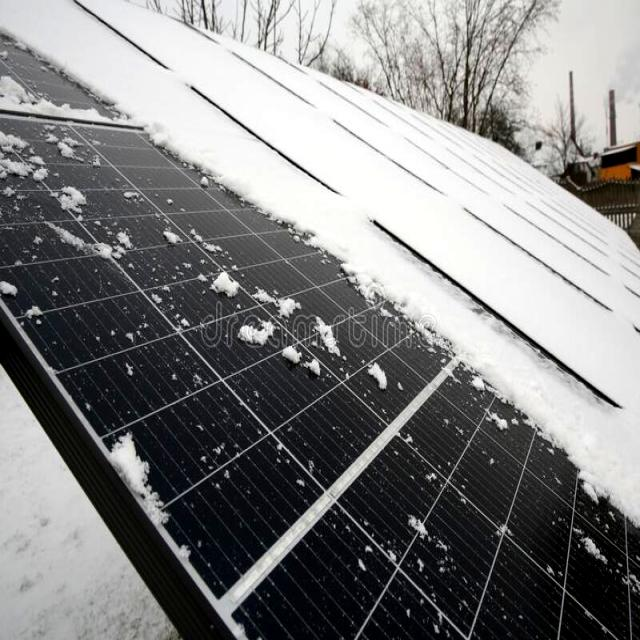panel: (0, 84, 131, 256), (131, 14, 232, 172), (368, 195, 501, 306), (520, 214, 628, 350), (250, 98, 354, 238), (94, 421, 202, 555), (165, 218, 308, 316), (217, 326, 400, 399), (330, 101, 479, 181), (577, 367, 640, 544), (469, 324, 564, 438), (10, 0, 121, 83), (242, 38, 314, 91), (491, 152, 537, 202)
